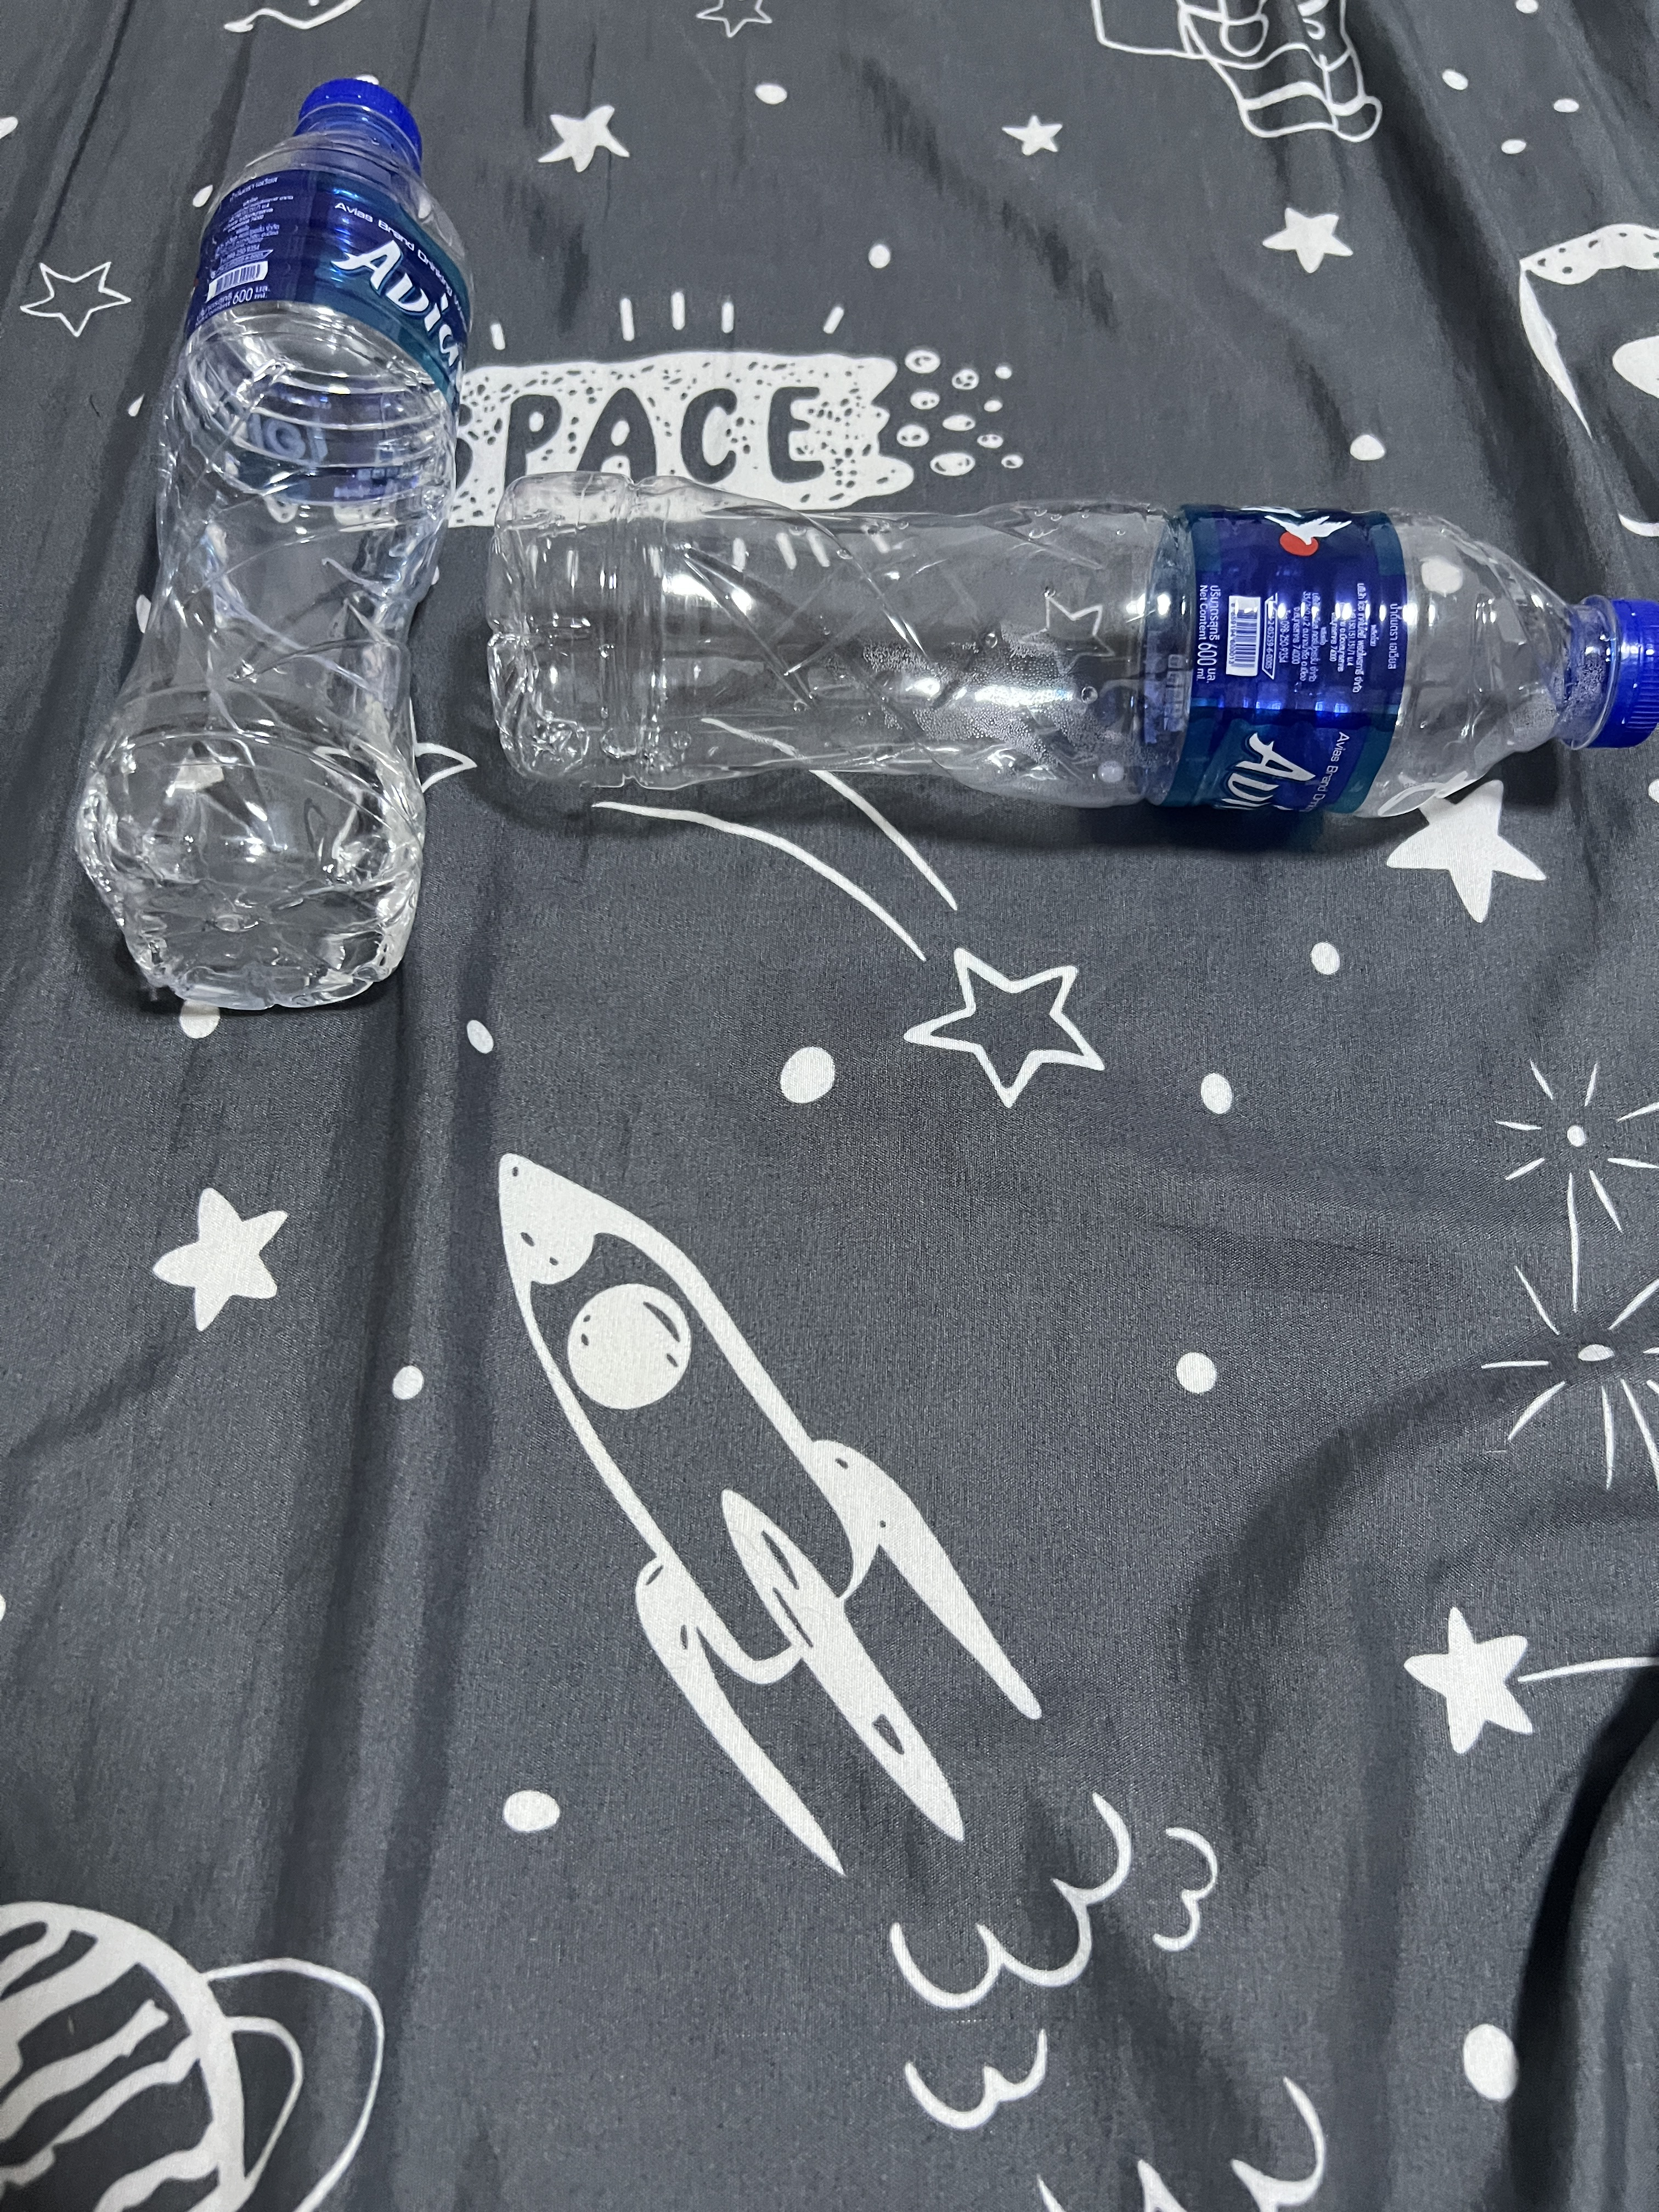plastic_bottle: (471, 444, 1659, 845), (103, 52, 479, 1033)
